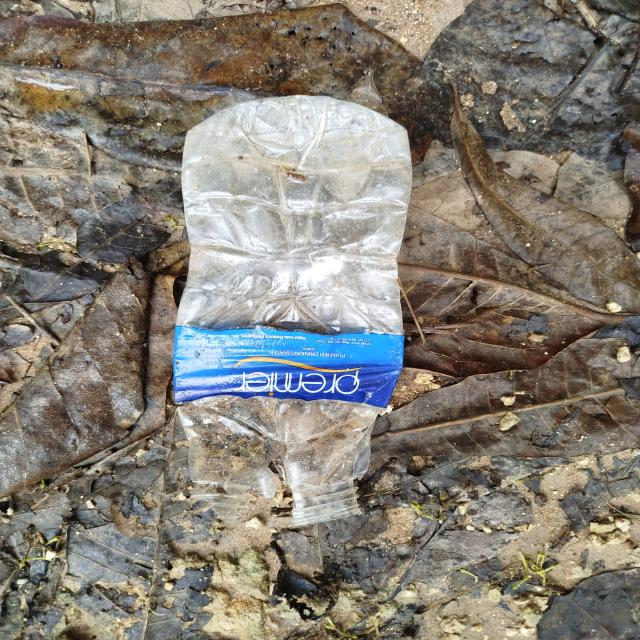plastic: (132, 77, 424, 530)
